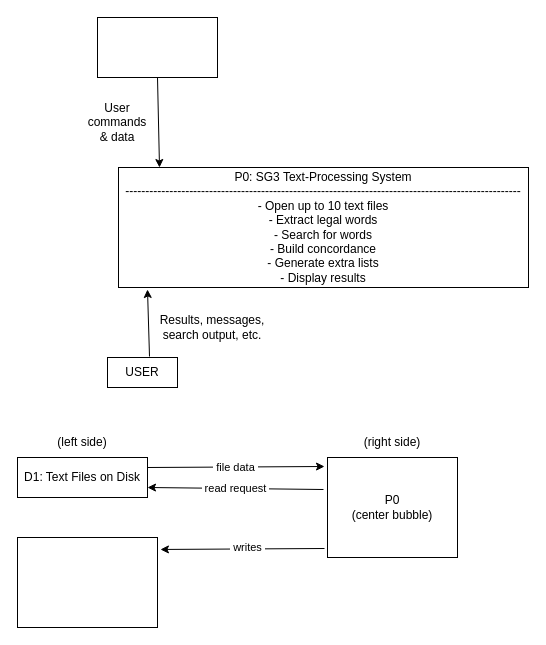
This 546x645 diagram has some shape labels left out. The centre of each missing label's shape, as x and y in pixels:
"D2: Output Result Files on Disk (CONCORDANCE.TXT, ExtraLists.txt)" belongs at pixel 87 582.
"USER (menu, actions, inputs, file selections)" belongs at pixel 157 47.
